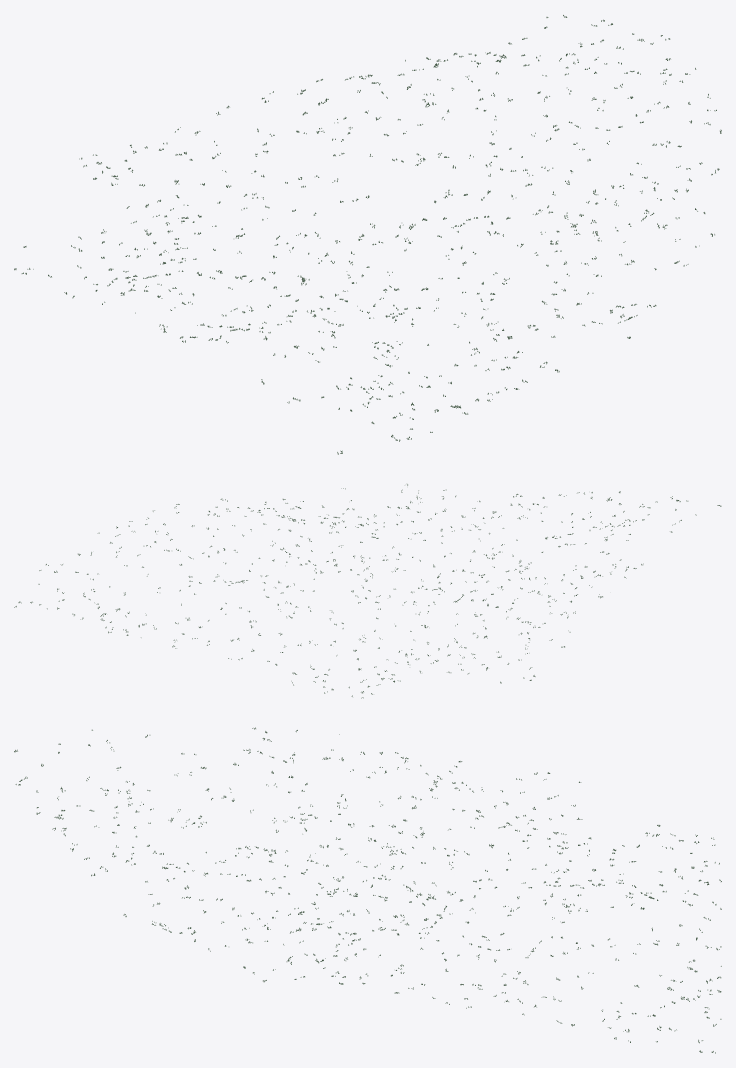
File: SM_AsirMountains_Far_Forest_2.fbx
The picture shows the model from 3 angles, top to bottom: view 1: azimuth 30°, elevation 25°; view 2: azimuth 150°, elevation 25°; view 3: azimuth 270°, elevation 25°; orthographic projection. The views are drawn at different scales.
Parts seen in each view (by area): view 1: SM_AsirMountains_Far_Forest_2; view 2: SM_AsirMountains_Far_Forest_2; view 3: SM_AsirMountains_Far_Forest_2.
Part boxes in pixels (x1,y1,x2,y2): SM_AsirMountains_Far_Forest_2: [14, 15, 721, 454]; SM_AsirMountains_Far_Forest_2: [14, 484, 721, 698]; SM_AsirMountains_Far_Forest_2: [14, 727, 721, 1053].
Bounding box in the file's own units: 515217 × 46517 × 519753.
